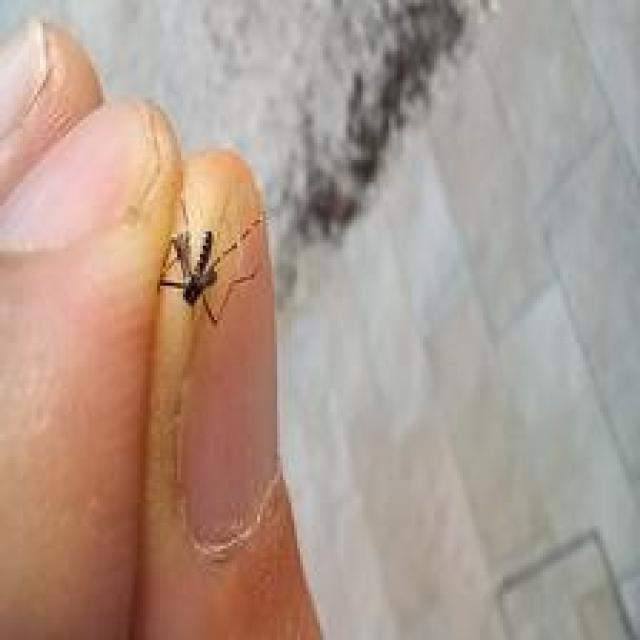Aedes albopictus: (156, 203, 267, 326)
